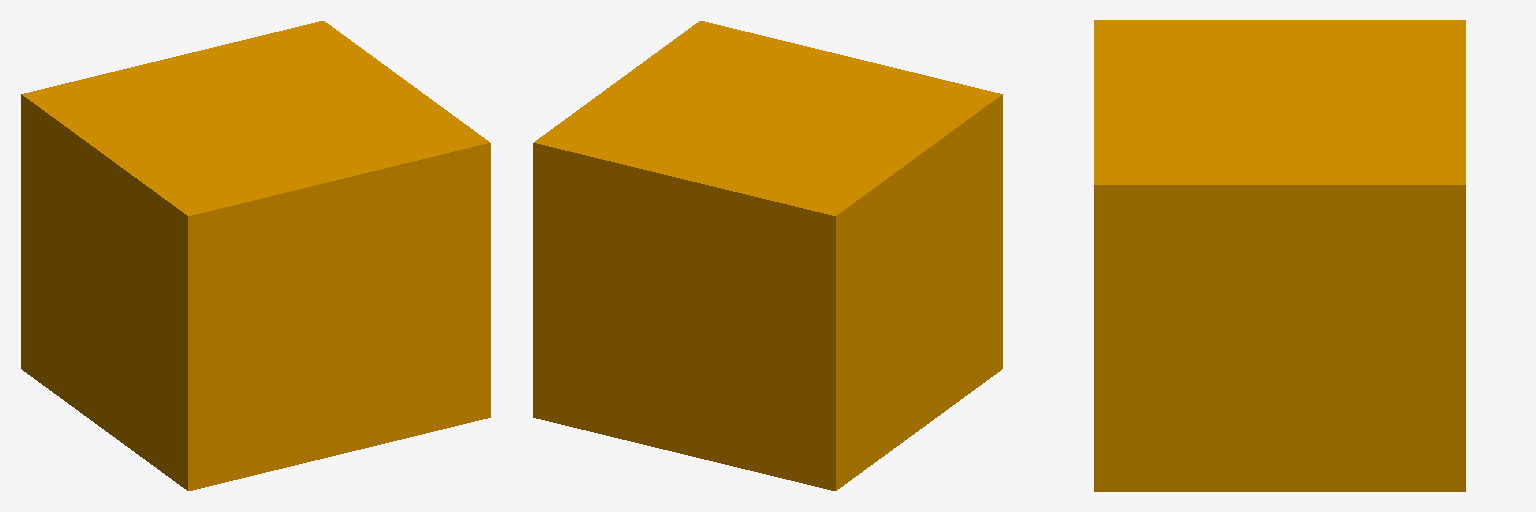
robot.urdf — object:
<robot name="object">
  <link name="object">
    <visual>
      <origin xyz="0 0 0" />
      <geometry>
        <box size="0.09200000000000003 0.08800000000000002 0.08" />
      </geometry>
    </visual>

    <collision>
      <origin xyz="0 0 0" />
      <geometry>
        <box size="0.09200000000000003 0.08800000000000002 0.08" />
      </geometry>
    </collision>

    <inertial>
      <mass value="0.05" />
      <inertia ixx="0.0001" ixy="0.0" ixz="0.0" iyy="0.0001" iyz="0.0" izz="0.0001" />
    </inertial>
  </link>
</robot>

--- What the picture shows (computed from the rendered views, not written in the file) ---
3 views of the same robot in one strip: view 1: azimuth 30°, elevation 25°; view 2: azimuth 150°, elevation 25°; view 3: azimuth 270°, elevation 25° (orthographic).
Model object with 1 links and 0 joints (none), rooted at object, posed all joints at 0.
Links seen in each view (by area): view 1: object; view 2: object; view 3: object.
Boxes of the visible links, x1,y1,x2,y2 form: object: [21, 21, 490, 490]; object: [533, 21, 1002, 490]; object: [1094, 20, 1465, 491].
Size in the robot's own frame: 0.092 by 0.088 by 0.08 metres.
Geometry: primitives only (box / cylinder / sphere), no mesh files.